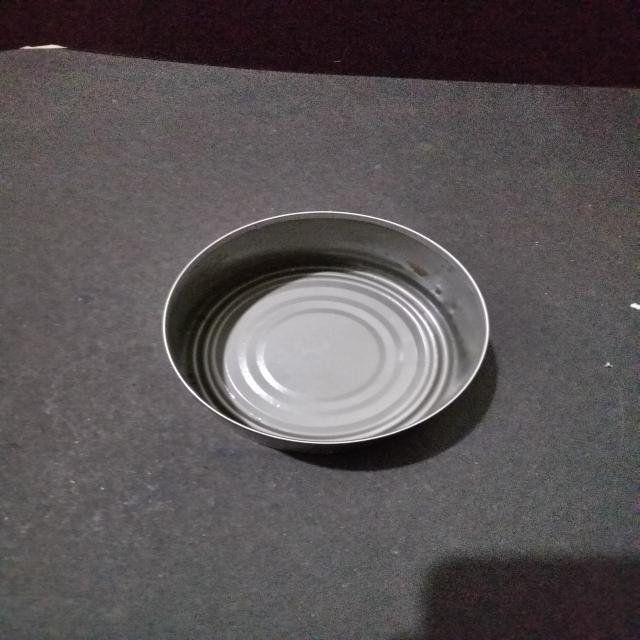metal: (157, 202, 496, 448)
